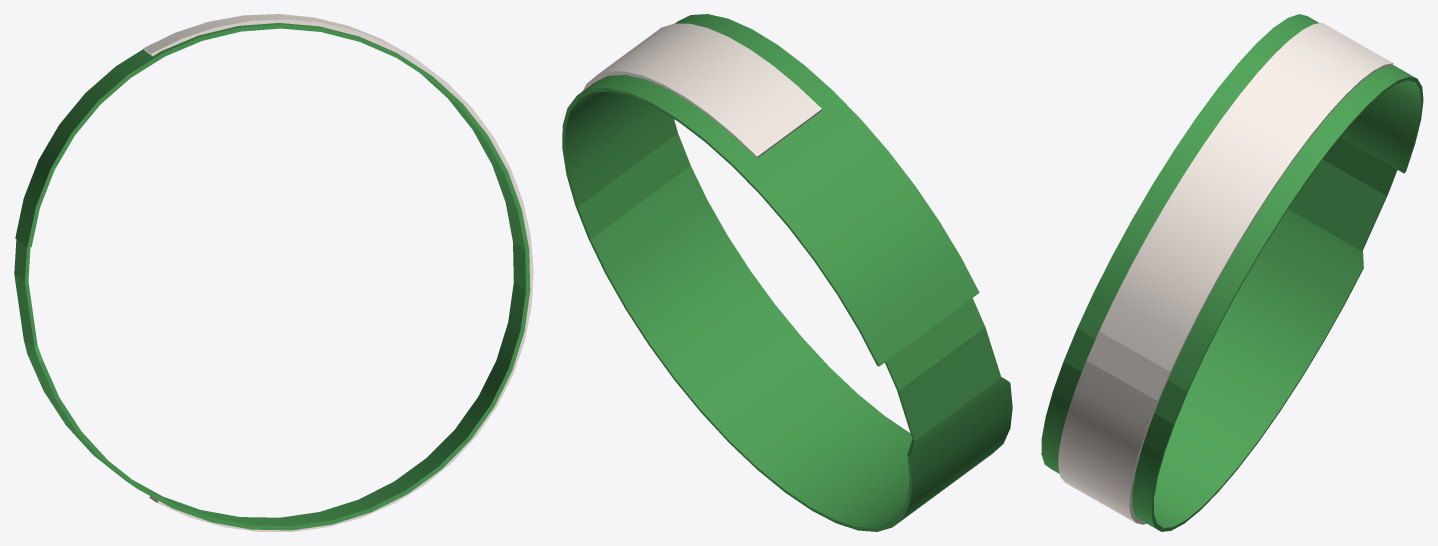
File: wristbandne4.glb
3 views of the same model, side by side, from view 1: azimuth 30°, elevation 25°; view 2: azimuth 150°, elevation 25°; view 3: azimuth 270°, elevation 25° (orthographic). The views are drawn at different scales.
Parts seen in each view (by area): view 1: Mainarea, Printarea; view 2: Mainarea, Printarea; view 3: Mainarea, Printarea.
Part boxes in pixels (bbox=[...]): Mainarea: bbox=[14, 23, 530, 530]; Printarea: bbox=[143, 14, 533, 531]; Mainarea: bbox=[562, 14, 1012, 531]; Printarea: bbox=[582, 23, 821, 158]; Mainarea: bbox=[1041, 14, 1423, 531]; Printarea: bbox=[1058, 23, 1393, 524].
Bounding box in the file's own units: 3.42 × 3.45 × 2.47.
